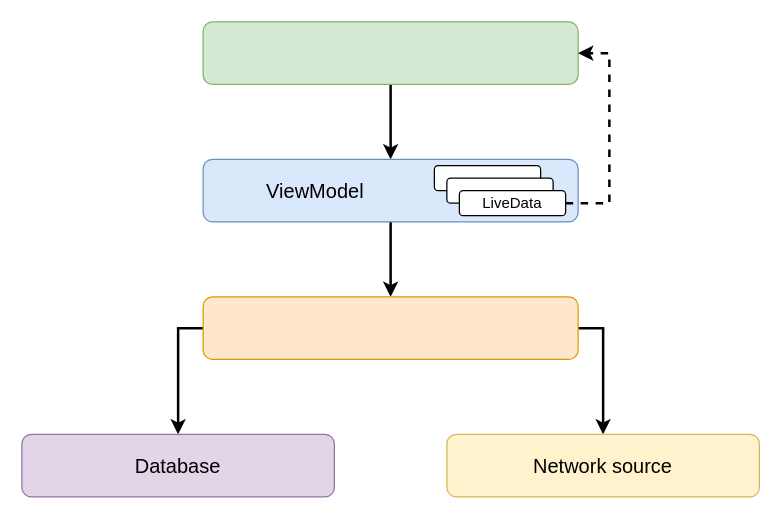
Some shapes in this 781 by 519 pixel diagram are drawn without their labels. The shapes that lost their labels are listed below. From the top down, each one's centre as x and y in pixels, then its label:
(x=390, y=52): Activity/Fragment
(x=390, y=327): Repository
